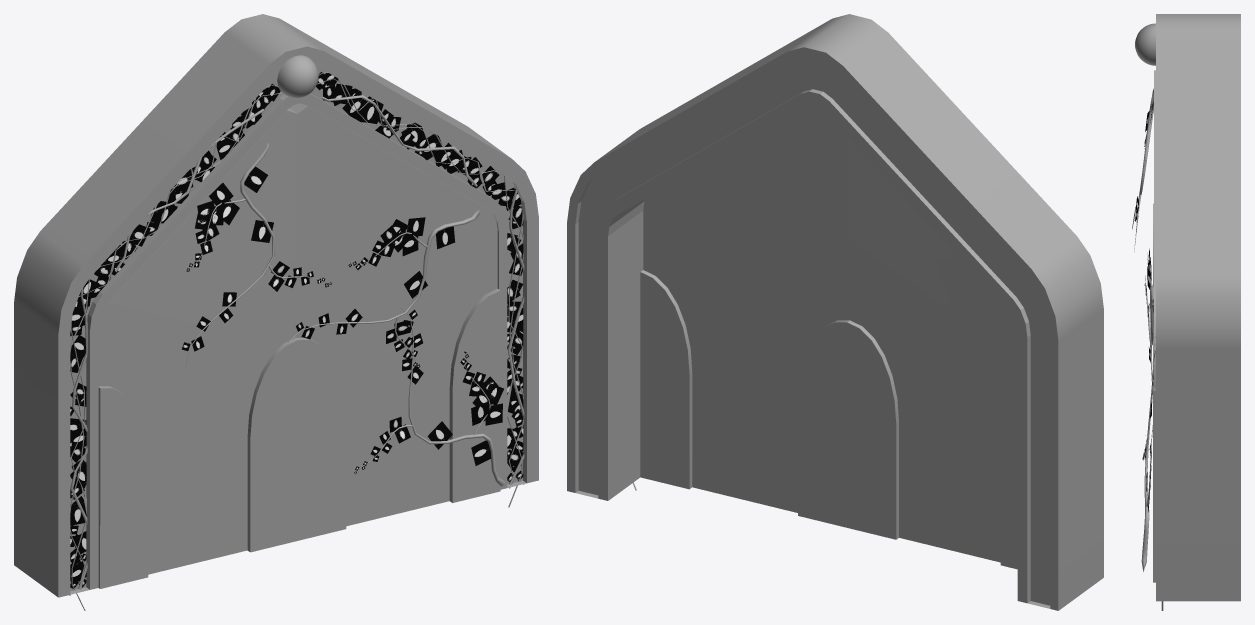
Rendered from porte_grouper_avec_emissive.fbx.
The picture shows the model from 3 angles, left to right: view 1: azimuth 30°, elevation 25°; view 2: azimuth 150°, elevation 25°; view 3: azimuth 270°, elevation 25°; orthographic projection. The views are drawn at different scales.
Visible parts, largest first — view 1: cadre, Porte_droite2, Porte_gauche2, plante_qui_grimpe, plante, plante1, plante_qui_grimpe_emissive, plante2; view 2: cadre, Porte_gauche2, Porte_droite2; view 3: cadre, Porte_gauche2, plante1, plante_qui_grimpe_emissive, plante, plante2.
Boxes of the visible parts, x1,y1,x2,y2 form: cadre: (14, 14, 538, 597); Porte_droite2: (98, 108, 298, 588); Porte_gauche2: (290, 103, 500, 540); plante_qui_grimpe: (69, 72, 524, 606); plante: (181, 143, 331, 367); plante1: (354, 305, 504, 486); plante_qui_grimpe_emissive: (69, 55, 524, 610); plante2: (286, 210, 480, 367); cadre: (567, 14, 1103, 610); Porte_gauche2: (640, 105, 849, 527); Porte_droite2: (847, 137, 1017, 569); cadre: (1156, 14, 1240, 601); Porte_gauche2: (1153, 79, 1155, 582); plante1: (1141, 335, 1155, 572); plante_qui_grimpe_emissive: (1135, 23, 1162, 610); plante: (1132, 88, 1153, 252); plante2: (1144, 248, 1153, 403).
Bounding box in the file's own units: 500 × 511 × 103.
